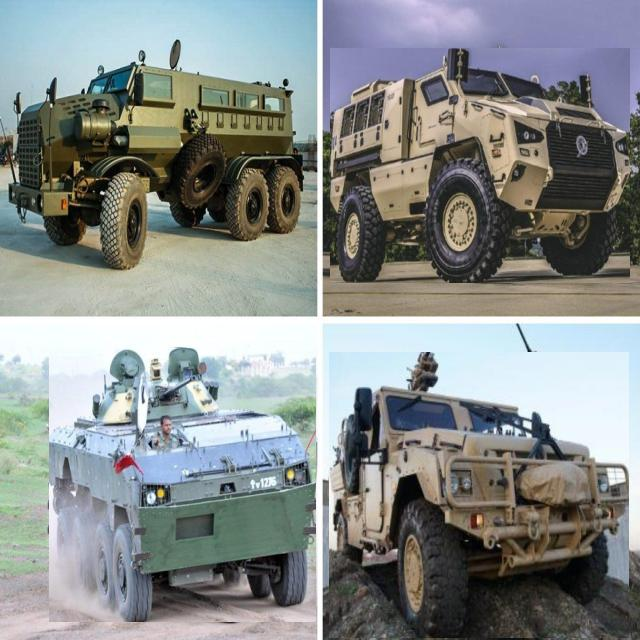truck: (329, 352, 629, 638), (49, 349, 316, 622), (330, 49, 630, 283), (8, 42, 304, 269)
